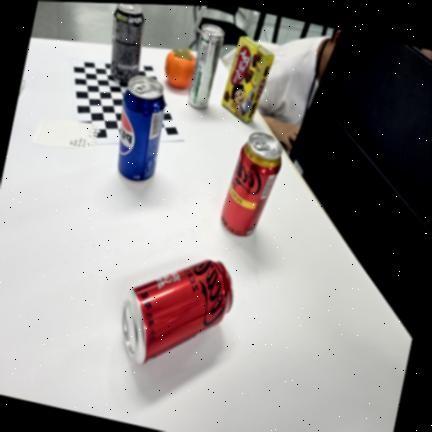can_coke_decaf: (220, 131, 282, 237)
can_coke_zero: (121, 258, 233, 365)
can_pepsi: (117, 76, 166, 182)
